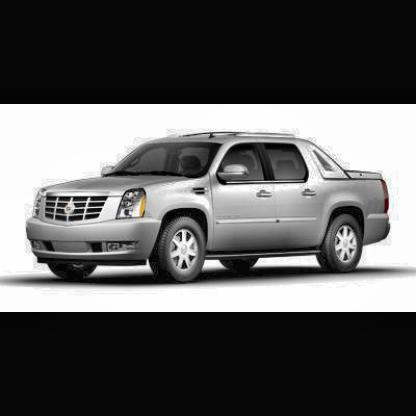Cadillac Escalade EXT Crew Cab 2007: (24, 130, 394, 281)
